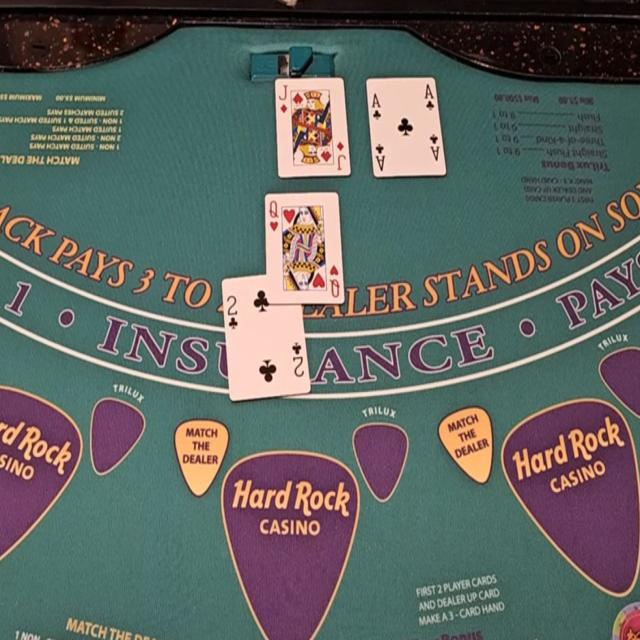2: (225, 294, 240, 316)
A: (370, 90, 382, 109)
J: (278, 82, 290, 103)
Q: (268, 198, 280, 220)
